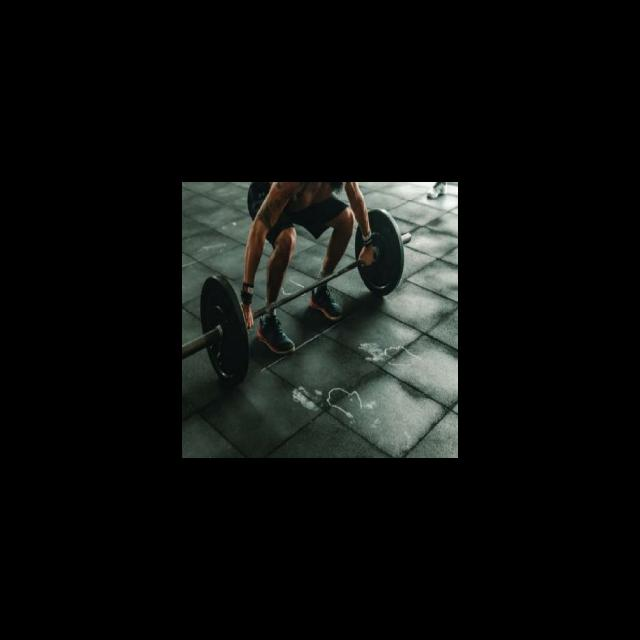barbell: (194, 269, 254, 392)
